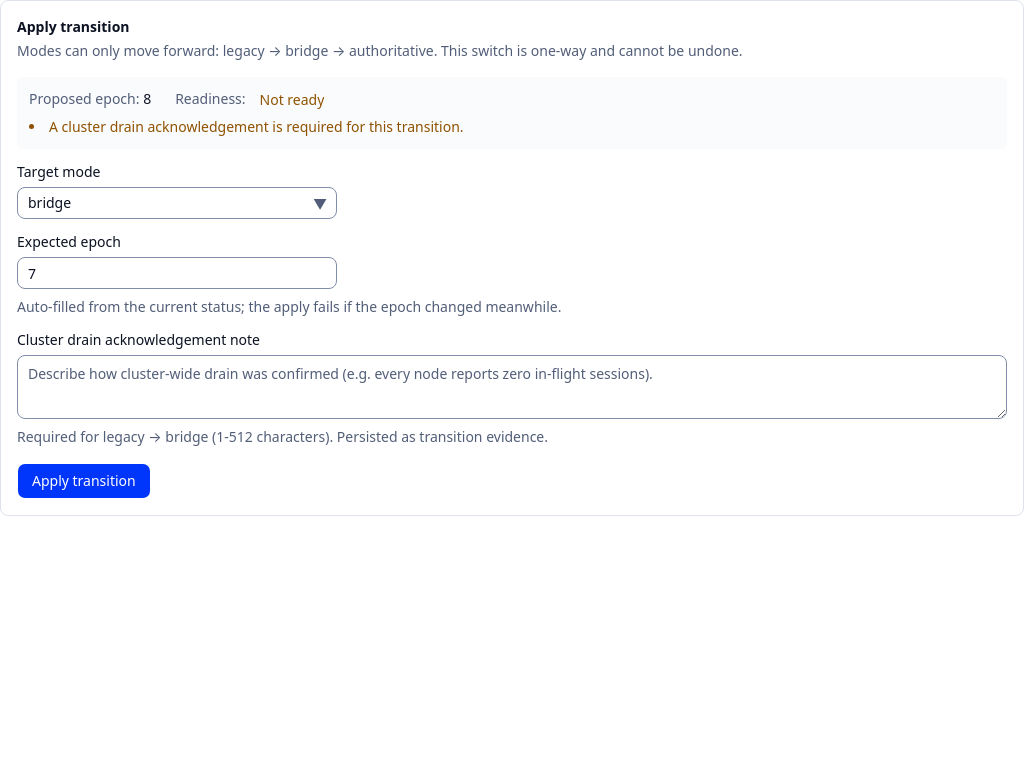
Test case: ApplyTransitionCard › renders the missing audit checks when apply is rejected with 409
The width and height of the screenshot is (1024, 768).
Type "all drained" into the text box with placeholder "Describe how cluster-wide drain was confirmed (e.g. every node reports zero in-flight sessions)." at {"x": 512, "y": 387}, box [17,355,1007,419]
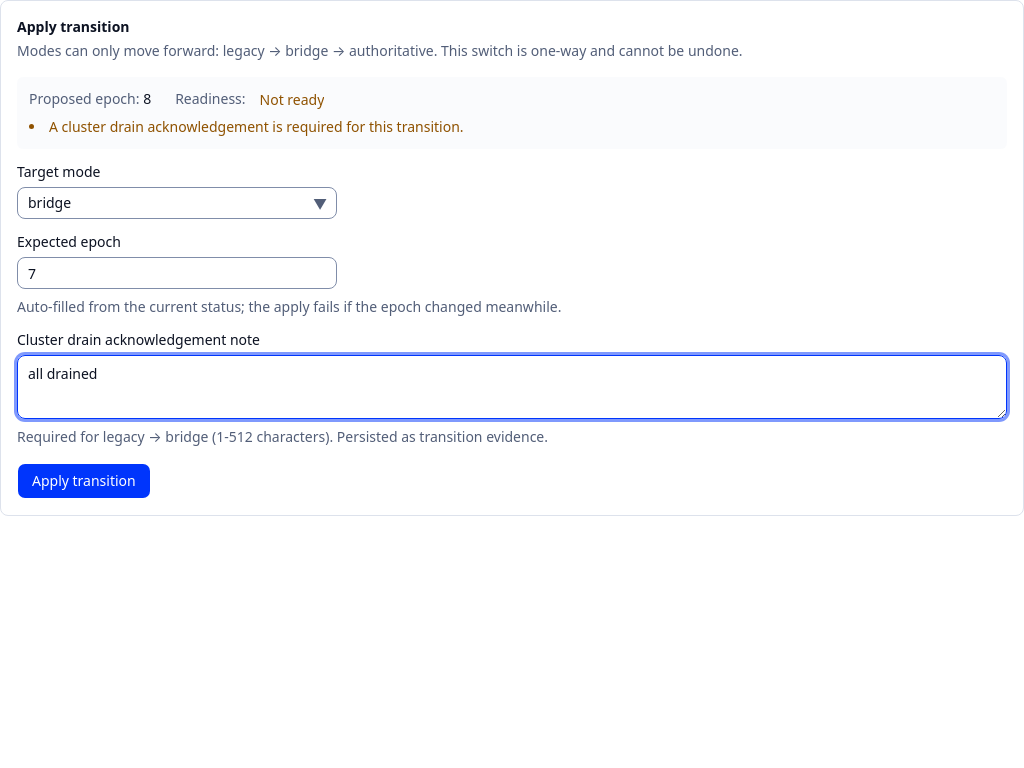
Click the button "Apply transition" at {"x": 84, "y": 481}, box [17,463,151,499]
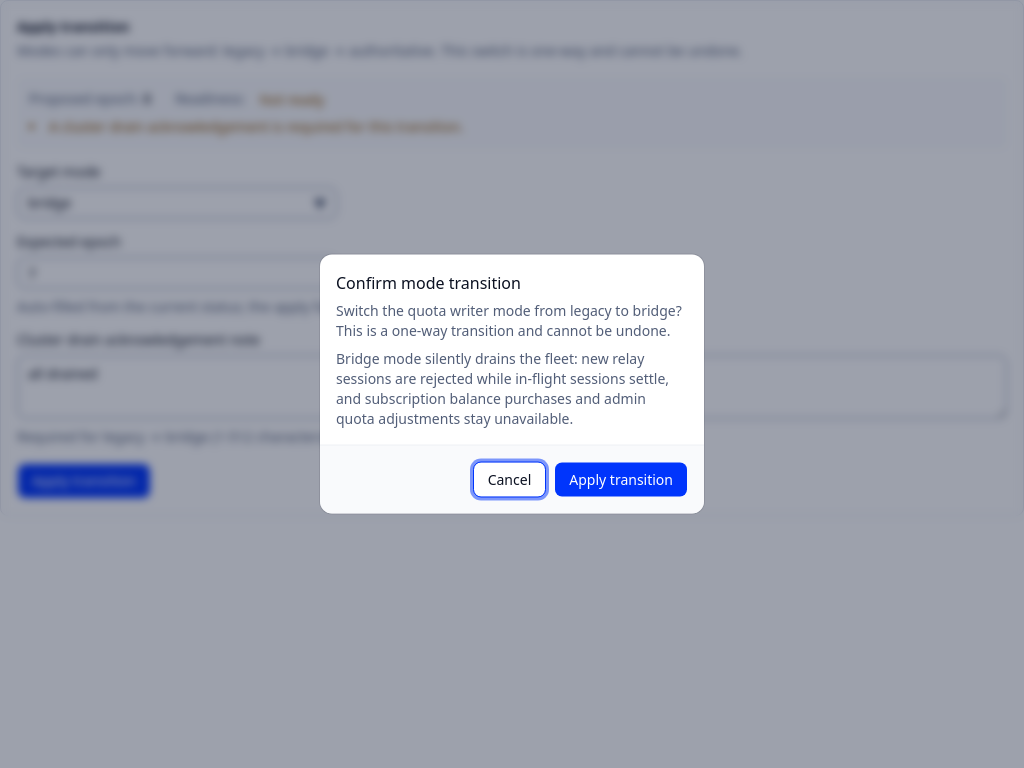
Click the button "Apply transition" at {"x": 621, "y": 480}, box [554,462,688,498]
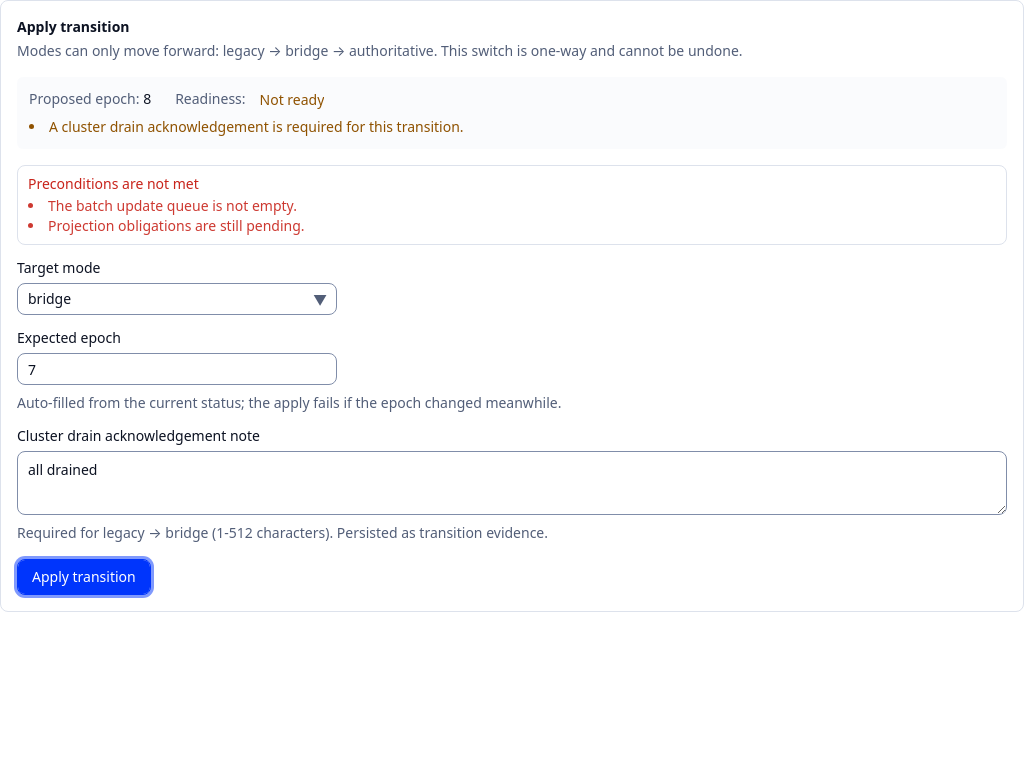
Result: the text "Preconditions are not met" is shown at [28,174,199,193]
Result: the list item "The batch update queue is not empty." is shown at [48,196,297,215]
Result: the list item "Projection obligations are still pending." is shown at [48,216,304,235]
